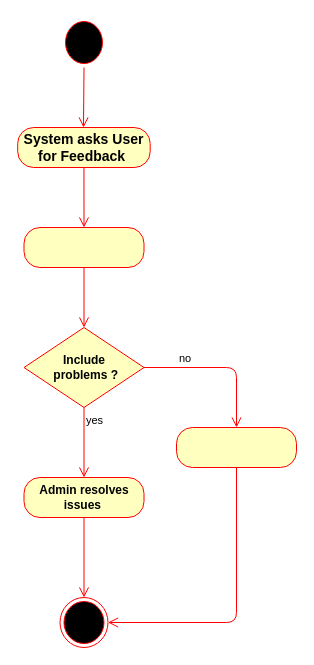
This 314x665 diagram has some shape labels left out. Here are the shapes that lost their labels. From the top down, the centre of each, then its label:
At point (83, 247): "Write Feedback".
At point (236, 447): "Thanking Message".
